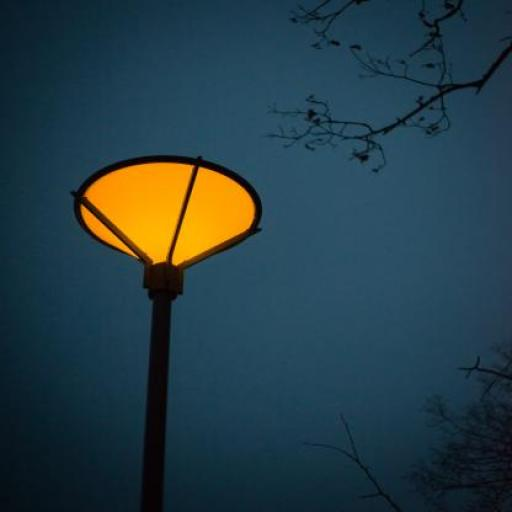street light: (72, 156, 264, 512)
